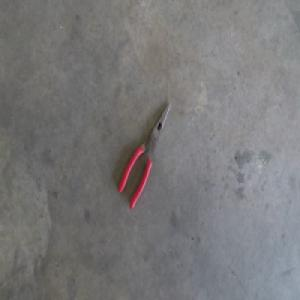Pliers: (116, 101, 170, 209)
